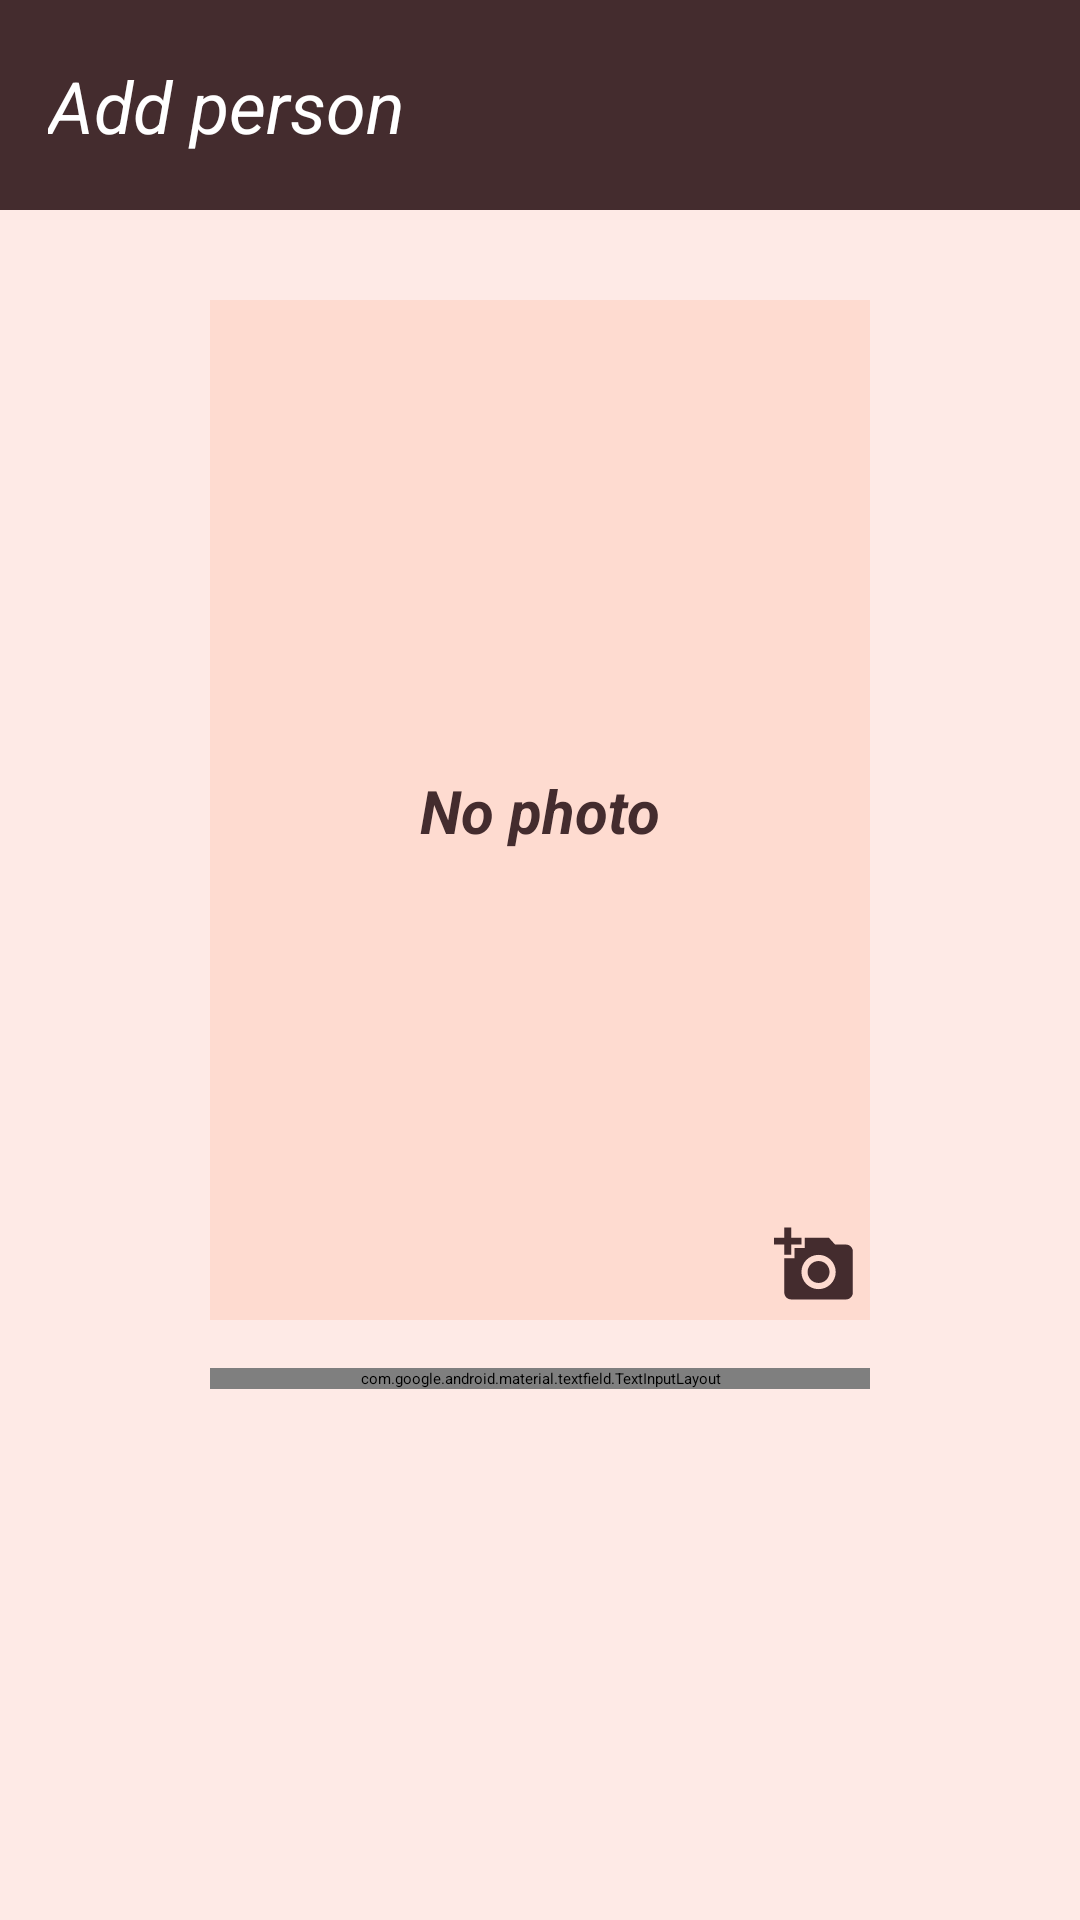

Where to tap for icons on this 1080x1920 app screen, as (x=x, y=y):
add photo: (x=813, y=1263)
